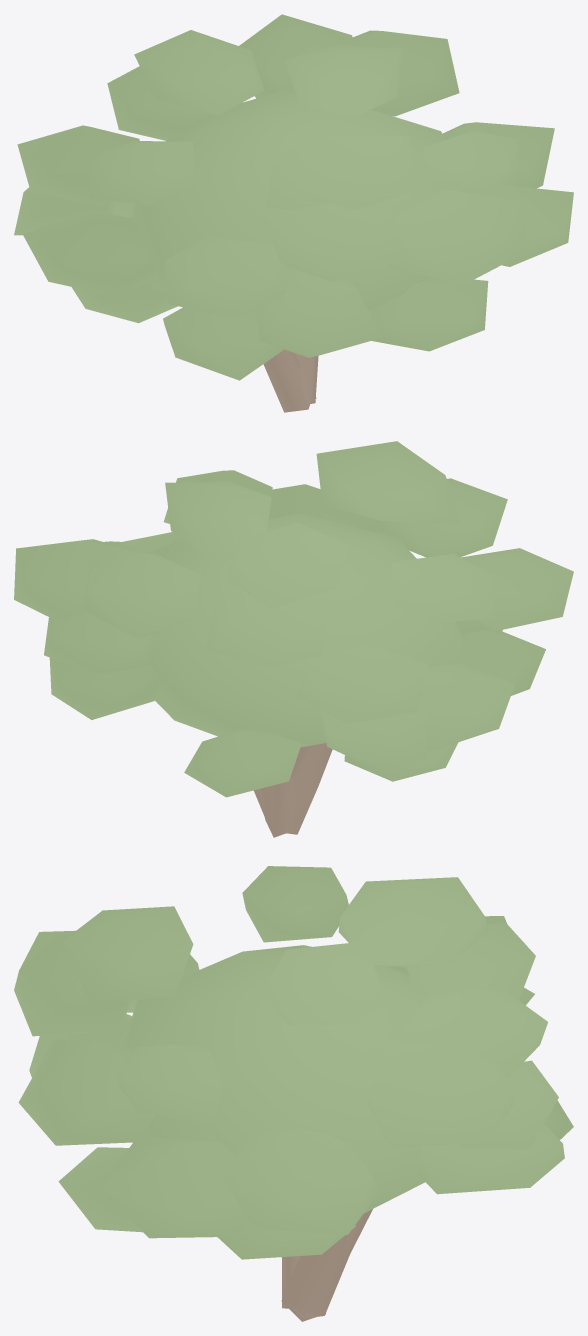
Rendered from Blender_Sagebrush_2.glb.
3 views of the same model, one above another, from view 1: azimuth 30°, elevation 25°; view 2: azimuth 150°, elevation 25°; view 3: azimuth 270°, elevation 25° (orthographic). The views are drawn at different scales.
Parts seen in each view (by area): view 1: Blender_Sagebrush_2; view 2: Blender_Sagebrush_2; view 3: Blender_Sagebrush_2.
Part boxes in pixels (x1,y1,x2,y2): Blender_Sagebrush_2: [14, 14, 573, 412]; Blender_Sagebrush_2: [14, 441, 573, 837]; Blender_Sagebrush_2: [14, 866, 573, 1321].
Bounding box in the file's own units: 0.8754 × 0.5919 × 0.7461.
